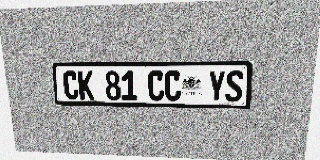1: (121, 71, 137, 101)
8: (105, 71, 121, 100)
C: (164, 71, 181, 101), (62, 71, 79, 100), (148, 71, 164, 101)
K: (78, 71, 94, 100)
S: (225, 70, 244, 102)
Y: (208, 70, 226, 102)
